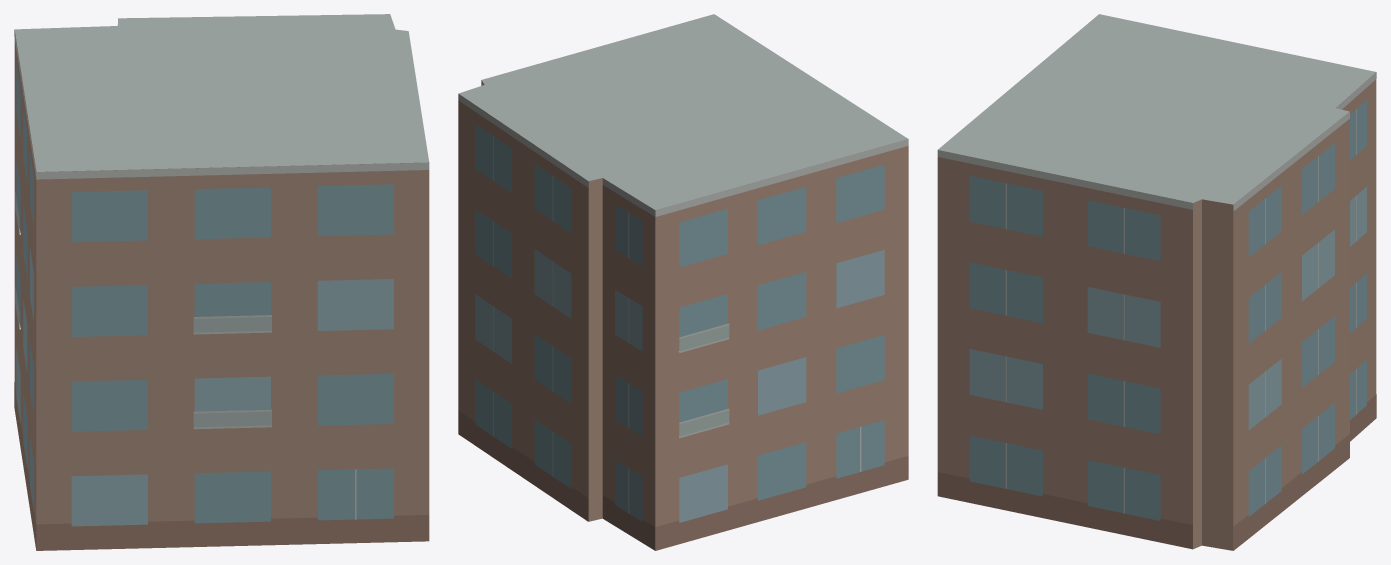
Rendered from survey-upis-32893341.glb.
3 renders of one model, left to right at view 1: azimuth 30°, elevation 25°; view 2: azimuth 150°, elevation 25°; view 3: azimuth 270°, elevation 25°, orthographic. The views are drawn at different scales.
Parts seen in each view (by area): view 1: survey-upis-32893341.tmp; view 2: survey-upis-32893341.tmp; view 3: survey-upis-32893341.tmp.
Part boxes in pixels (<box>): survey-upis-32893341.tmp: <box>14,14,429,550</box>; survey-upis-32893341.tmp: <box>458,14,908,550</box>; survey-upis-32893341.tmp: <box>937,14,1376,550</box>.
Bounding box in the file's own units: 14.41 × 12.2 × 14.02.
